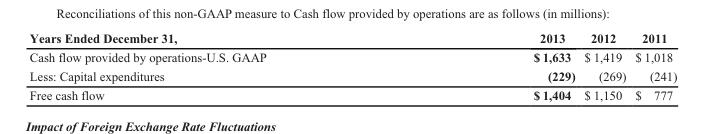table: (28, 28, 676, 102)
table column: (28, 28, 399, 102), (399, 28, 579, 102), (579, 28, 630, 102), (630, 28, 676, 102)
table column header: (28, 28, 676, 46)
table row: (28, 46, 676, 65), (28, 65, 676, 84), (28, 28, 676, 46), (28, 84, 676, 102)
